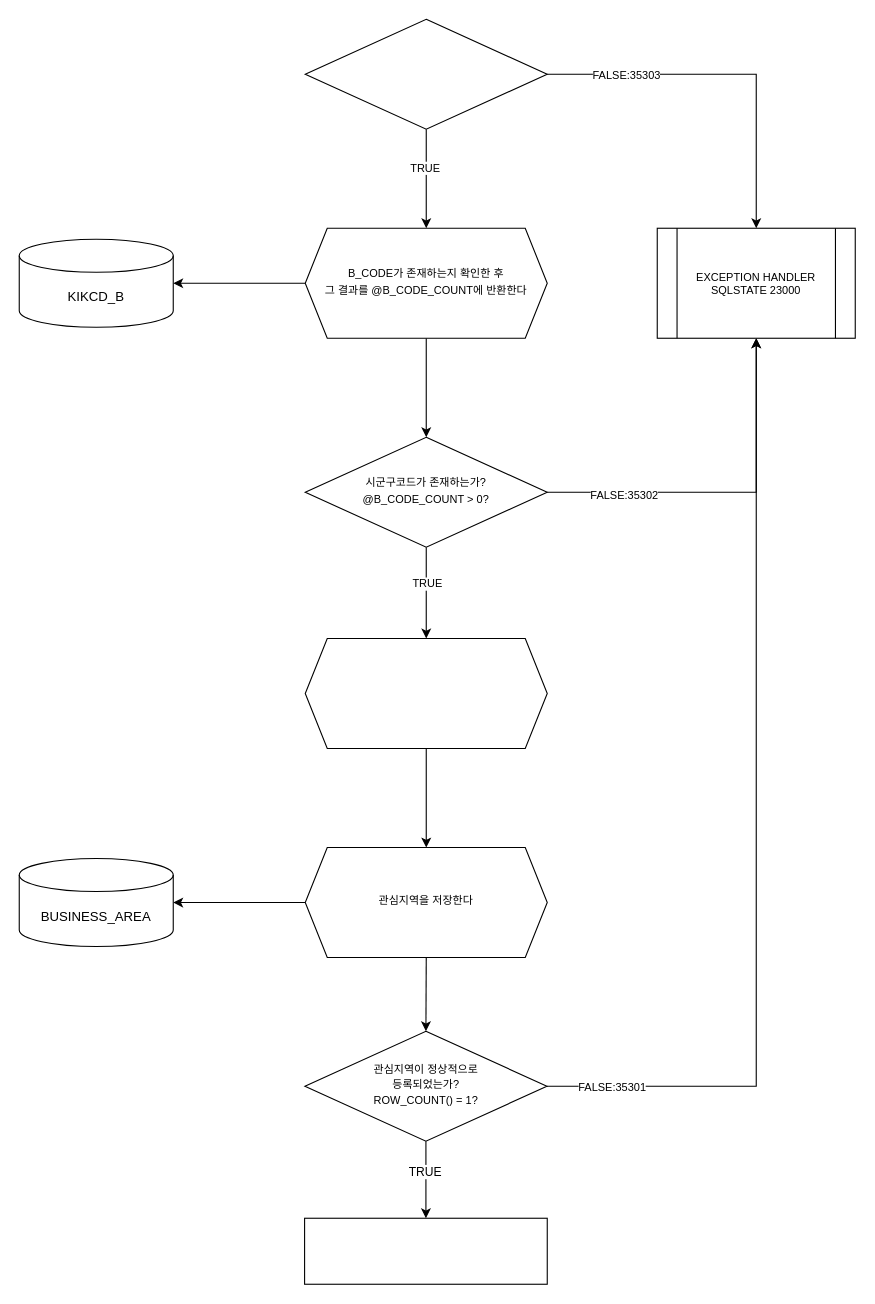
Image size: 875x1304. Some labels were removed from this diagram. Each missing label, with the centre of its shape:
sp_req_current_time 현재 시간을 구한후 @REG_DT에 반환한다.: point 425,692
시군구코드가 NULL? IN_SIGUNGU_CODE IS NOT NULL?: point 425,73
정상처리 @rtn_val = 0: point 425,1250
